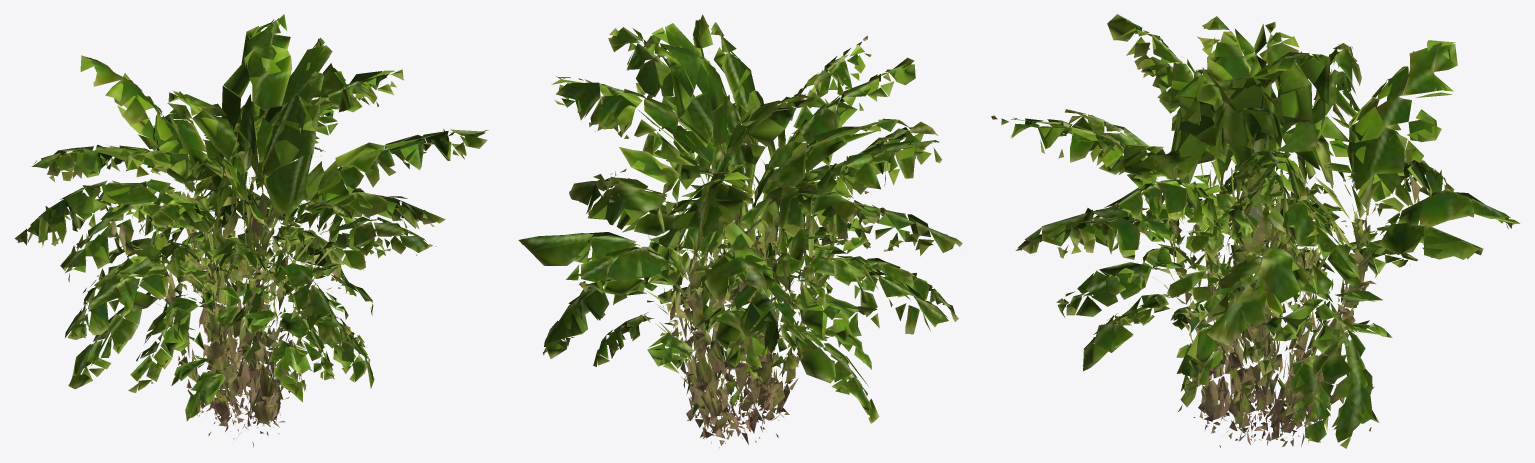
The model's file is banana.glb.
3 renders of one model, left to right at view 1: azimuth 30°, elevation 25°; view 2: azimuth 150°, elevation 25°; view 3: azimuth 270°, elevation 25°, orthographic. The views are drawn at different scales.
Visible parts, largest first — view 1: Mesh_0; view 2: Mesh_0; view 3: Mesh_0.
Boxes of the visible parts, left/top/right/bottom form: Mesh_0: left=14, top=14, right=488, bottom=447; Mesh_0: left=518, top=14, right=962, bottom=448; Mesh_0: left=991, top=14, right=1520, bottom=448.
Size of the model in its own units: 1.74 by 1.66 by 1.89.
1 material, 1 textured.
